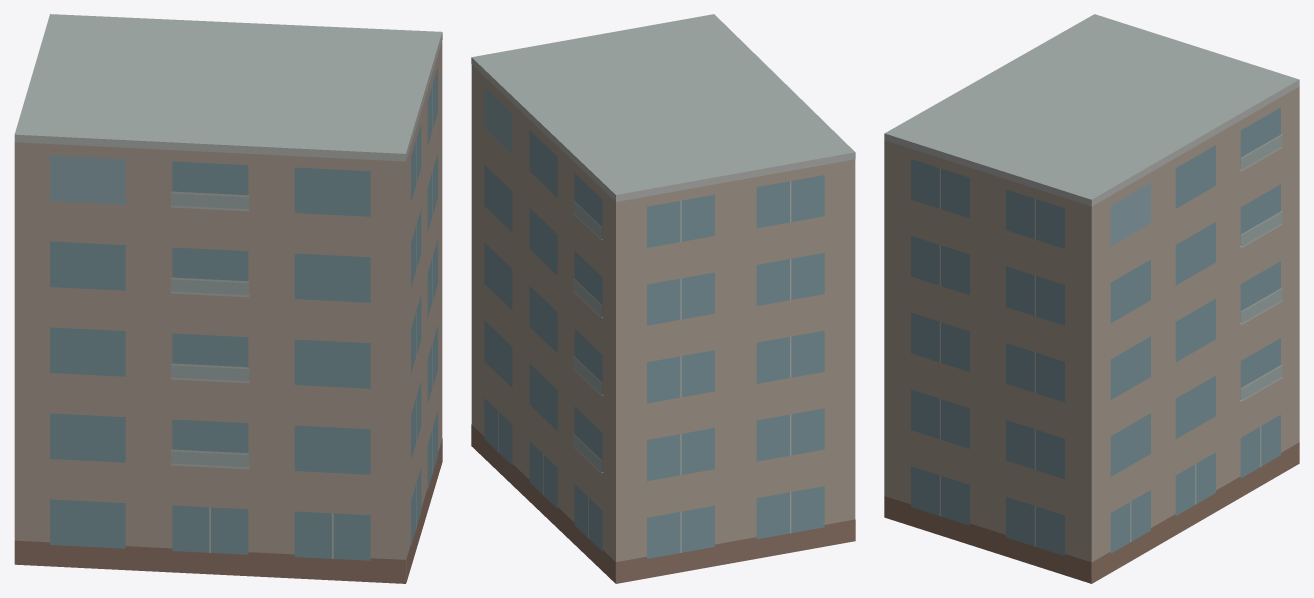
Rendered from survey-upis-32846922.glb.
3 renders of one model, left to right at view 1: azimuth 30°, elevation 25°; view 2: azimuth 150°, elevation 25°; view 3: azimuth 270°, elevation 25°, orthographic. The views are drawn at different scales.
Visible parts, largest first — view 1: survey-upis-32846922.tmp; view 2: survey-upis-32846922.tmp; view 3: survey-upis-32846922.tmp.
Boxes of the visible parts, <box> form: survey-upis-32846922.tmp: <box>14,14,442,583</box>; survey-upis-32846922.tmp: <box>471,14,855,583</box>; survey-upis-32846922.tmp: <box>884,14,1299,583</box>.
Bounding box in the file's own units: 14.22 × 13.7 × 13.43.
